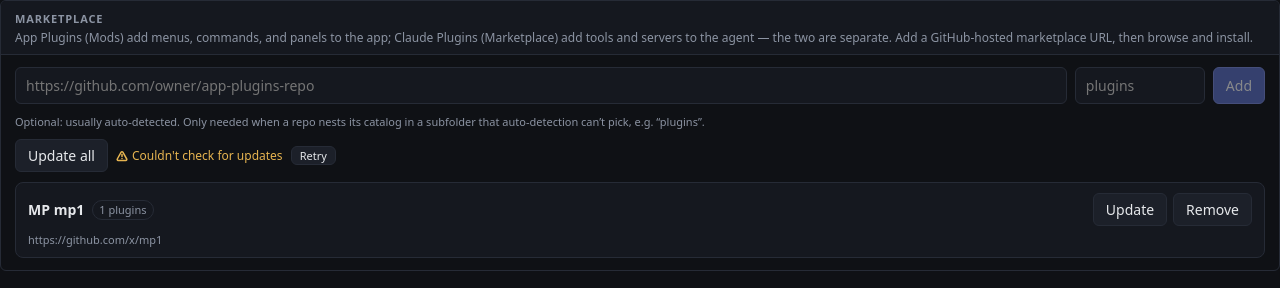
it: AppPluginMarketplaceSection check/pull races › clears a stale whole-check error once the only marketplace has been synced
The width and height of the screenshot is (1280, 288).
Click the button with class "marketplace-update-btn". click: [1130, 210]
box: [1093,193,1167,226]
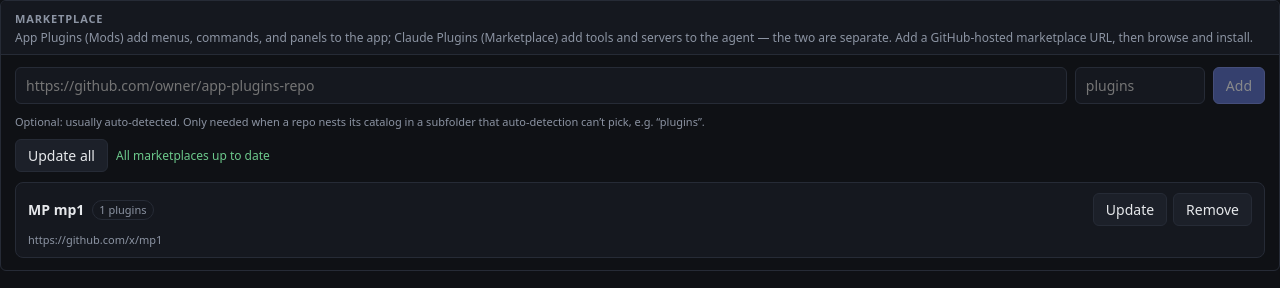
Expected: the text "Couldn't check for updates" is gone
Expected: the text "All marketplaces up to date" is shown, [116,147,270,164]
